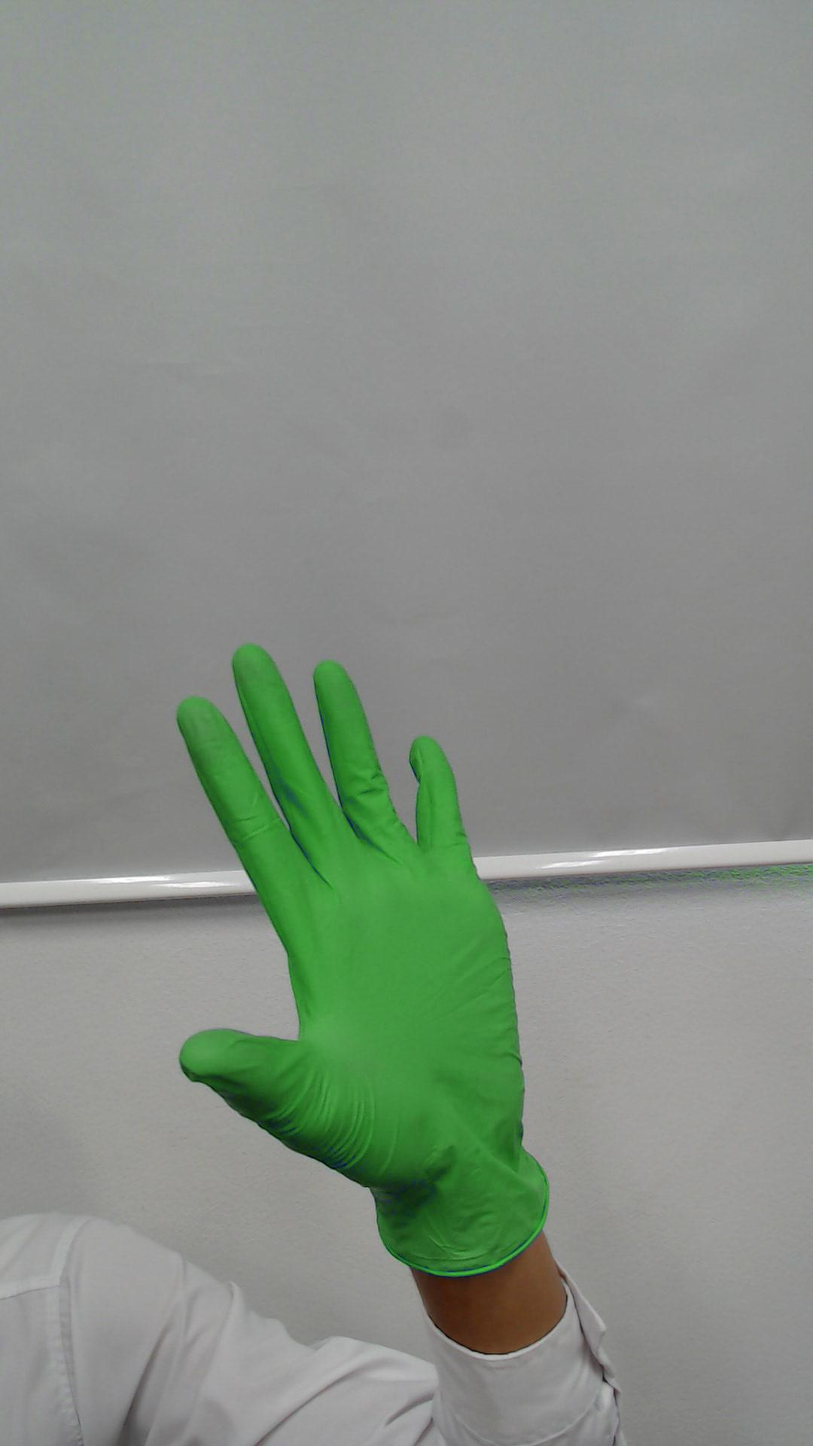gloves: (163, 621, 543, 1194)
